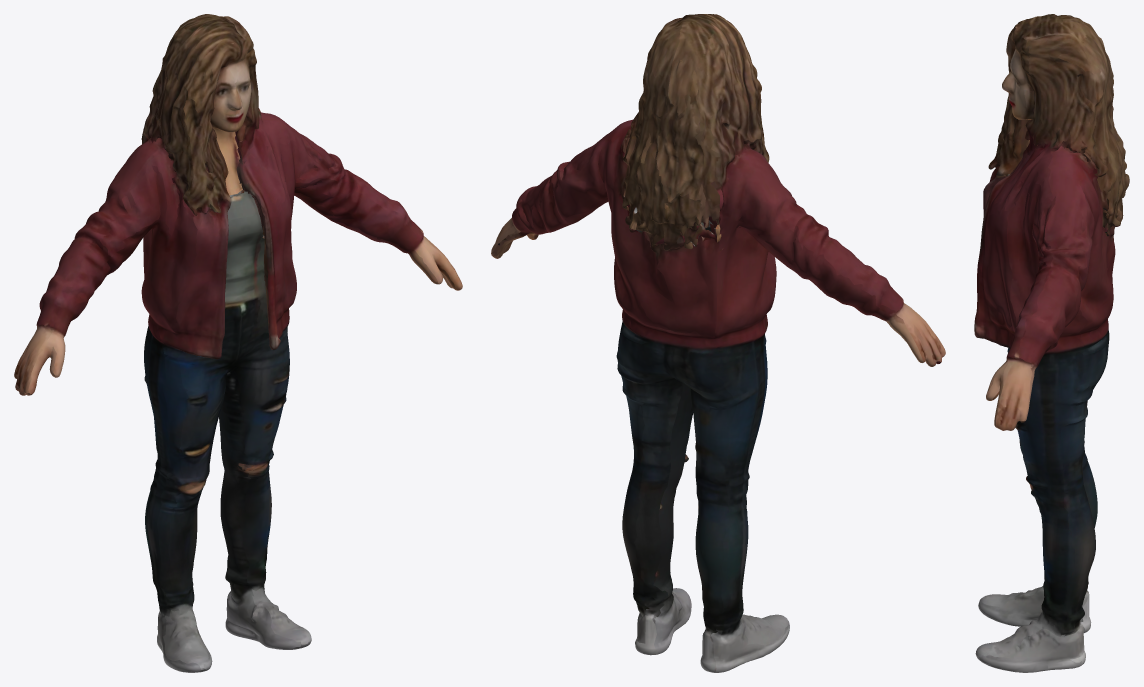
File: Alex-copilot-compressed.glb
The picture shows the model from 3 angles, left to right: view 1: azimuth 30°, elevation 25°; view 2: azimuth 150°, elevation 25°; view 3: azimuth 270°, elevation 25°; orthographic projection.
Parts seen in each view (by area): view 1: textured_mesh.001; view 2: textured_mesh.001; view 3: textured_mesh.001.
Part boxes in pixels (x1=…): textured_mesh.001: x1=14, y1=14, x2=462, y2=672; textured_mesh.001: x1=491, y1=14, x2=945, y2=672; textured_mesh.001: x1=974, y1=14, x2=1129, y2=672.
Bounding box in the file's own units: 1.47 × 1.99 × 0.4476.
Materials: 1 (1 with a texture image).
